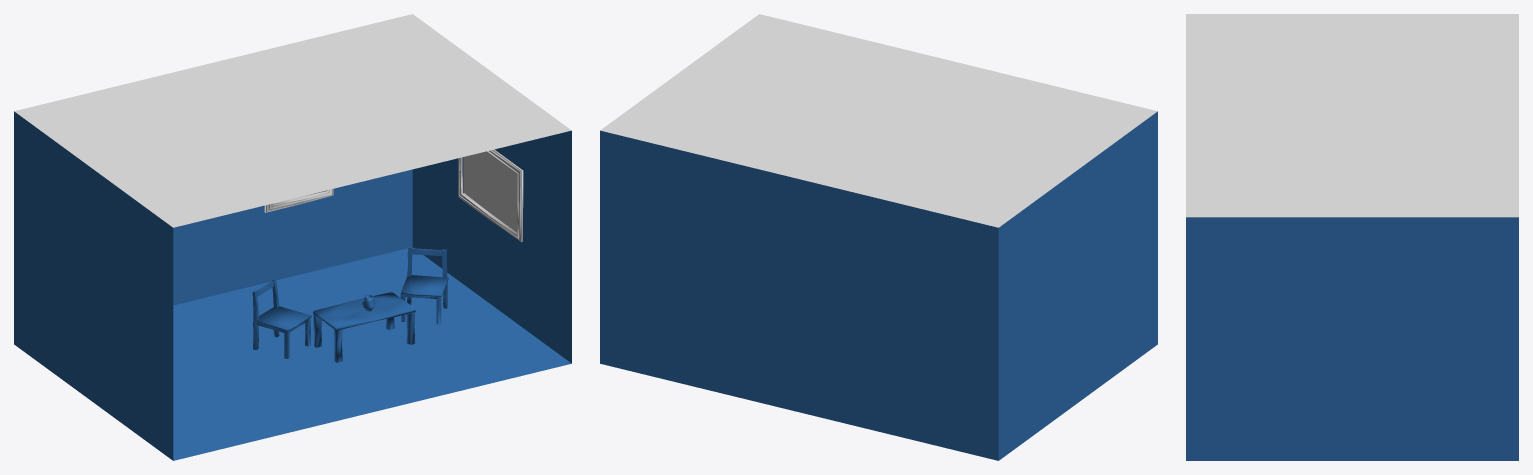
File: MockInterior.fbx
3 renders of one model, left to right at view 1: azimuth 30°, elevation 25°; view 2: azimuth 150°, elevation 25°; view 3: azimuth 270°, elevation 25°, orthographic. The views are drawn at different scales.
Parts seen in each view (by area): view 1: Interior_Ceiling, Interior_Floor, Interior_WallRight, Interior_WallLeft, Interior_WallBack, Interior_Table, Group_TargetImage, Interior_Chair02, Interior_Chair01, Interior_PictureGroup; view 2: Interior_WallBack, Interior_Ceiling, Interior_WallRight; view 3: Interior_WallLeft, Interior_Ceiling.
Boxes of the visible parts, left/top/right/bottom form: Interior_Ceiling: left=14, top=14, right=571, bottom=227; Interior_Floor: left=173, top=247, right=571, bottom=460; Interior_WallRight: left=14, top=111, right=173, bottom=460; Interior_WallLeft: left=412, top=130, right=571, bottom=363; Interior_WallBack: left=173, top=169, right=412, bottom=305; Interior_Table: left=313, top=292, right=415, bottom=362; Group_TargetImage: left=463, top=151, right=516, bottom=232; Interior_Chair02: left=252, top=278, right=311, bottom=358; Interior_Chair01: left=400, top=247, right=448, bottom=324; Interior_PictureGroup: left=458, top=149, right=523, bottom=242; Interior_WallBack: left=600, top=130, right=998, bottom=460; Interior_Ceiling: left=600, top=14, right=1157, bottom=227; Interior_WallRight: left=998, top=111, right=1157, bottom=460; Interior_WallLeft: left=1186, top=217, right=1518, bottom=460; Interior_Ceiling: left=1186, top=14, right=1518, bottom=217.
Size of the model in its own units: 445 by 249 by 308.
